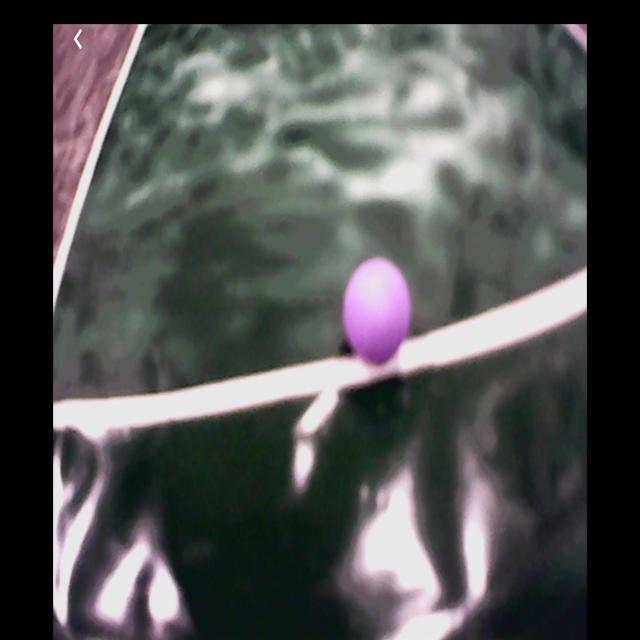ball: (342, 260, 411, 367)
